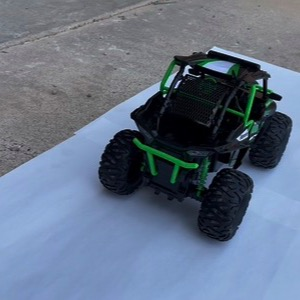polaris: (98, 50, 295, 245)
